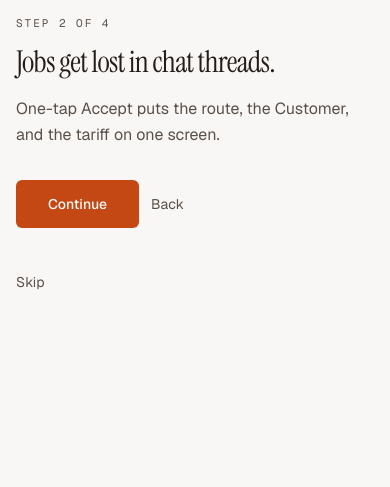
Test: Onboarding insight + personalization (slice 02 contract) › personalization uses at most 3 inputs
Click the button "Continue" at [78, 204], box [16,180,139,228]
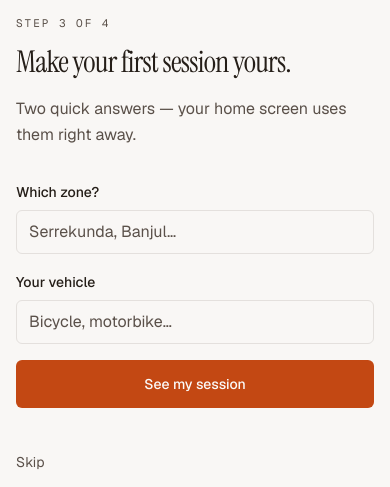
Check: the link "Skip" is shown, box [16,452,44,470]
Check: the text "Step 3 of 4" is shown, box [16,16,110,30]
